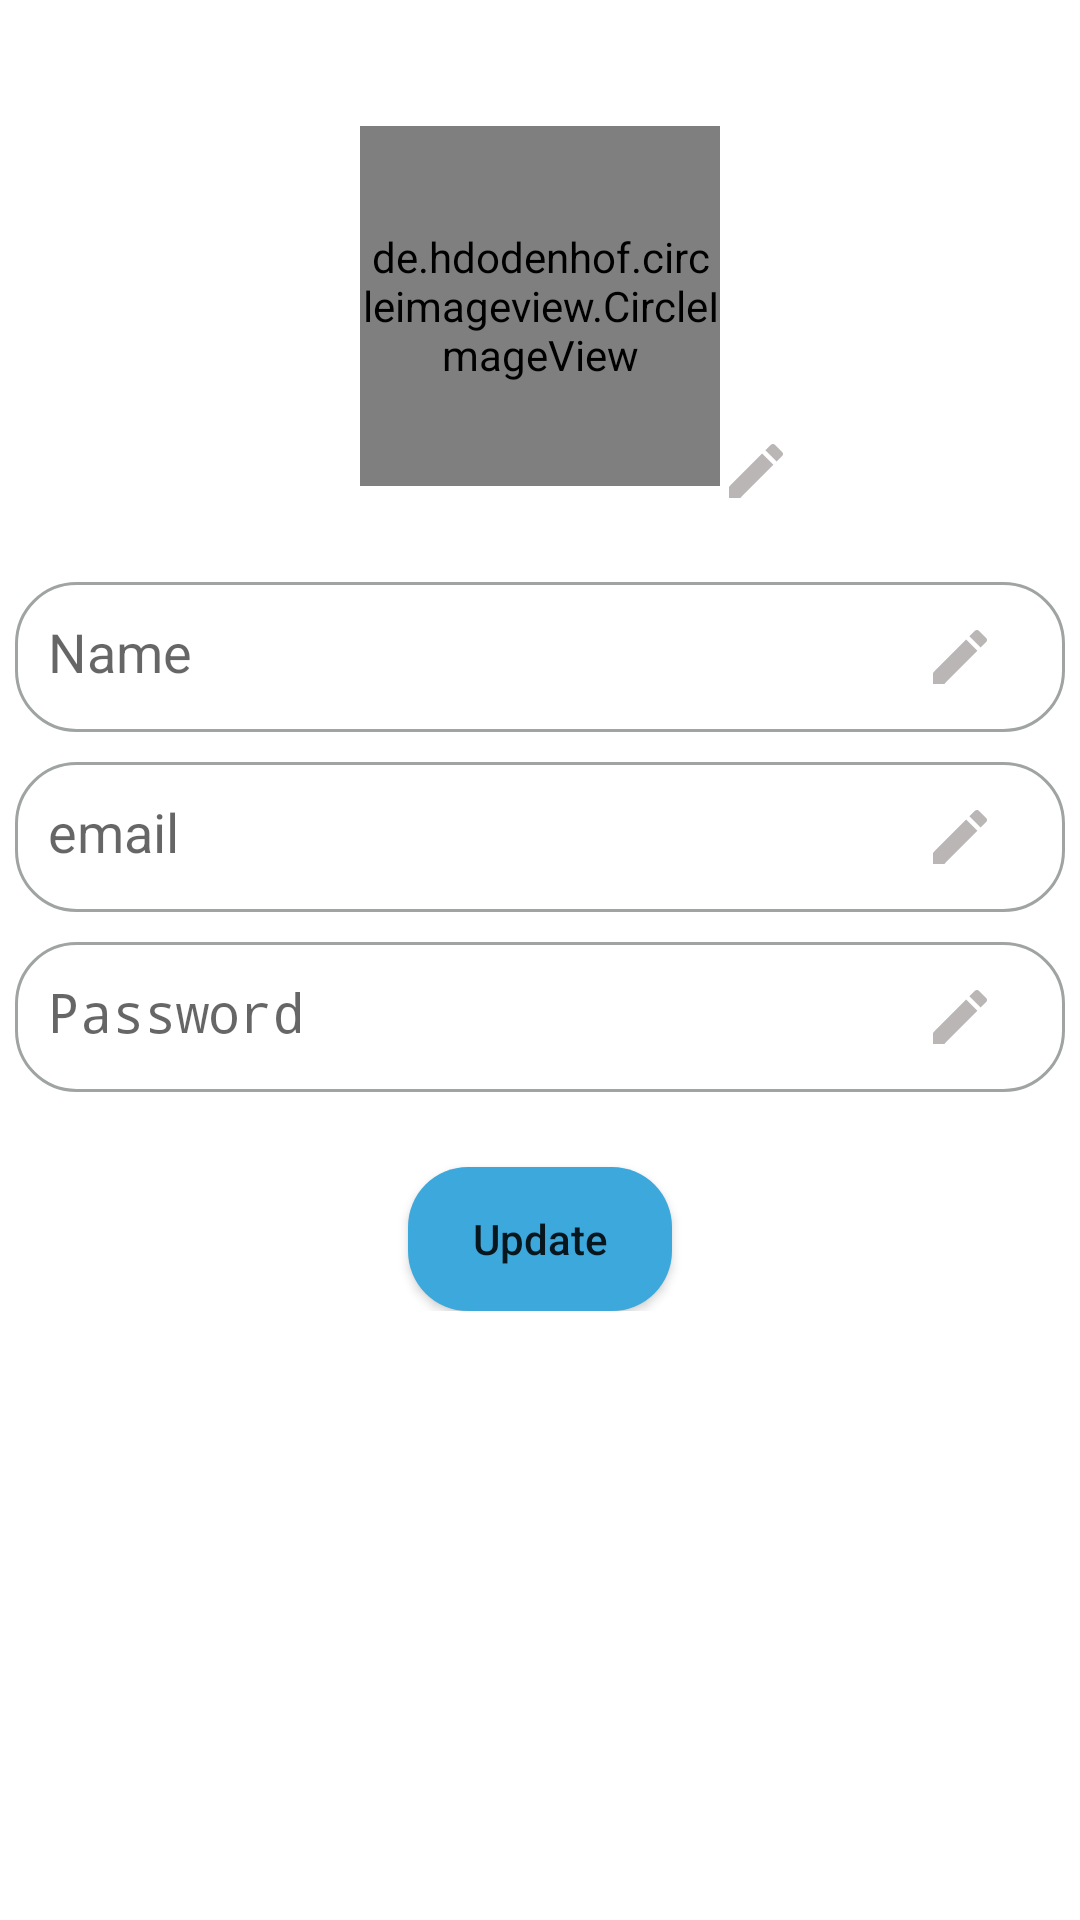

Screen size 1080×1920. Icon name, then its center in pixels as [x,y]:
edit: [756,471], [960,657], [960,837], [960,1017]
